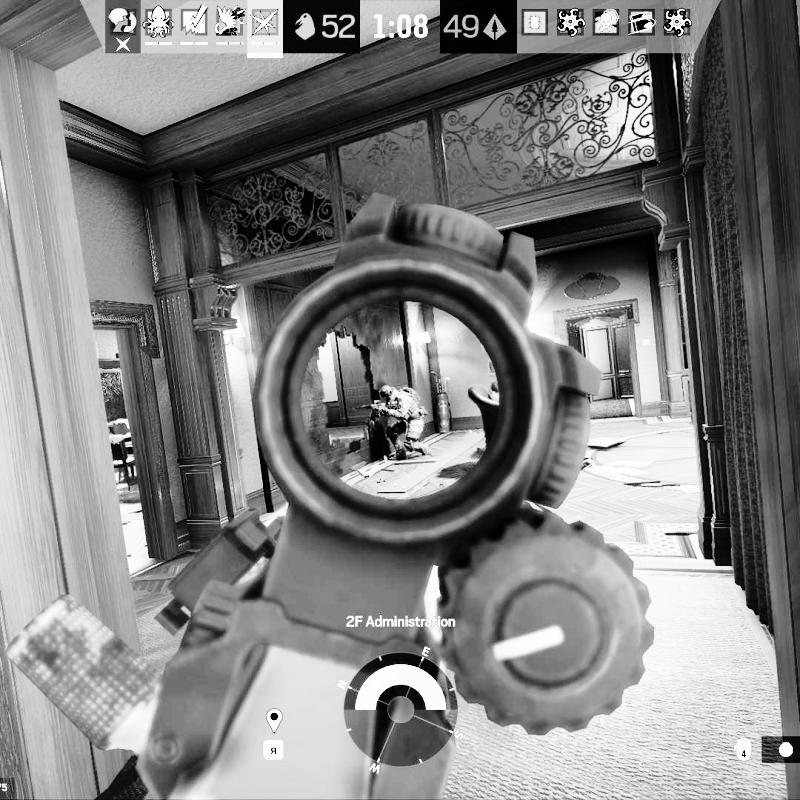Character: (353, 382, 430, 465)
Head: (379, 383, 395, 402)
